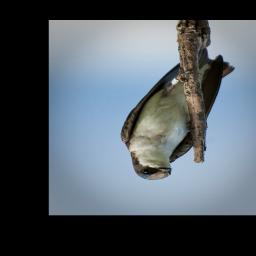Swallow: (120, 47, 236, 181)
